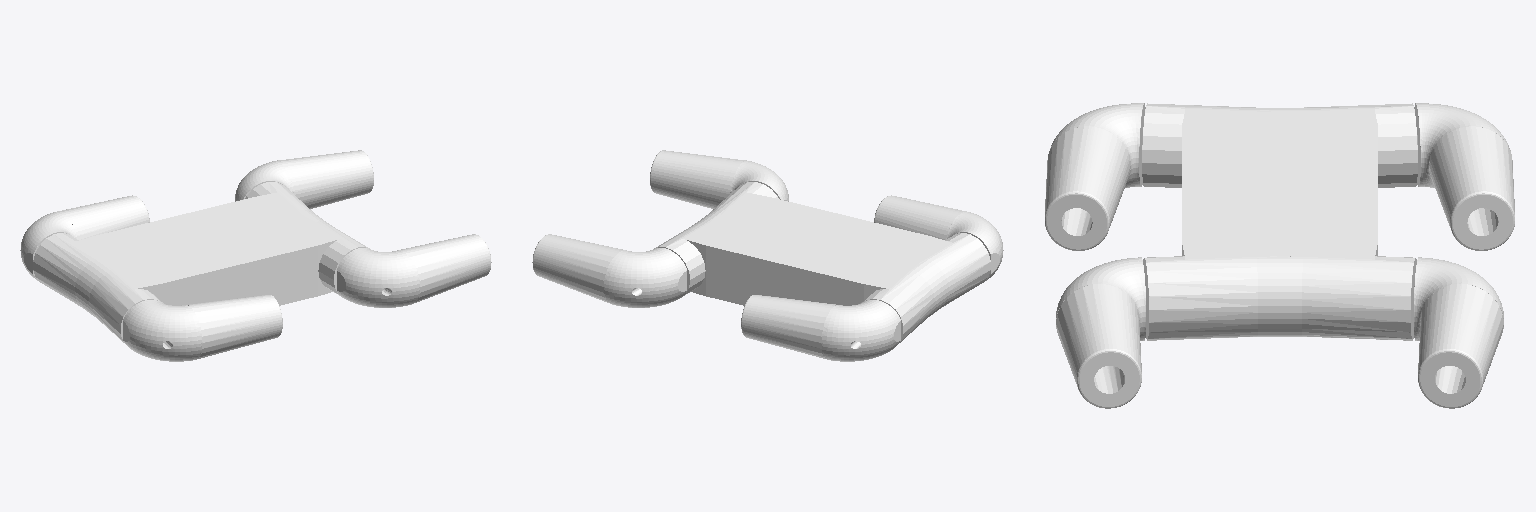
URDF robot description (5_degree):
<?xml version="1.0" encoding="utf-8"?>
<!-- This URDF was automatically created by SolidWorks to URDF Exporter! Originally created by [author] ([email redacted]) 
     Commit Version: 1.5.1-0-g916b5db  Build Version: 1.5.7152.31018
     For more information, please see http://wiki.ros.org/sw_urdf_exporter -->
<robot
  name="5_degree">
  <link
    name="base_link">
    <inertial>
      <origin
        xyz="0.0014429 -0.0018522 -6.9389E-18"
        rpy="0 0 0" />
      <mass
        value="2.803" />
      <inertia
        ixx="0.010406814"
        ixy="-0.000275404"
        ixz="-8.7849E-11"
        iyy="0.035905334"
        iyz="-2.481E-18"
        izz="0.04396308" />
    </inertial>
    <visual>
      <origin
        xyz="0 0 0"
        rpy="0 0 0" />
      <geometry>
        <mesh
          filename="package://5_degree/meshes/base_link.STL" />
      </geometry>
      <material
        name="">
        <color
          rgba="1 1 1 1" />
      </material>
    </visual>
    <collision>
      <origin
        xyz="0 0 0"
        rpy="0 0 0" />
      <geometry>
        <mesh
          filename="package://5_degree/meshes/base_link.STL" />
      </geometry>
    </collision>
  </link>
  <link
    name="left_fromt_link">
    <inertial>
      <origin
        xyz="-1.8382E-07 0.05465 -0.03115"
        rpy="0 0 0" />
      <mass
        value="0.081" />
      <inertia
        ixx="0.000198345"
        ixy="4.9685E-10"
        ixz="6.6329E-10"
        iyy="0.000044717"
        iyz="0.5927E-05"
        izz="0.000197966" />
    </inertial>
    <visual>
      <origin
        xyz="0 0 0"
        rpy="0 0 0" />
      <geometry>
        <mesh
          filename="package://5_degree/meshes/left_fromt_link.STL" />
      </geometry>
      <material
        name="">
        <color
          rgba="1 1 1 1" />
      </material>
    </visual>
    <collision>
      <origin
        xyz="0 0 0"
        rpy="0 0 0" />
      <geometry>
        <mesh
          filename="package://5_degree/meshes/left_fromt_link.STL" />
      </geometry>
    </collision>
  </link>
  <joint
    name="left_front_leg"
    type="continuous">
    <origin
      xyz="0.13898 0.10261 0"
      rpy="1.5708 1.5708 0" />
    <parent
      link="base_link" />
    <child
      link="left_fromt_link" />
    <axis
      xyz="0 0.087156 -0.99619" />
    <limit
      effort="5"
      velocity="487" />
  </joint>
  <link
    name="right_front_link">
    <inertial>
      <origin
        xyz="1.8382E-07 0.05465 0.03115"
        rpy="0 0 0" />
      <mass
        value="0.081" />
      <inertia
        ixx="0.000198345"
        ixy="-4.9685E-10"
        ixz="6.6329E-10"
        iyy="0.000044717"
        iyz="-0.5927E-05"
        izz="0.000197966" />
    </inertial>
    <visual>
      <origin
        xyz="0 0 0"
        rpy="0 0 0" />
      <geometry>
        <mesh
          filename="package://5_degree/meshes/right_front_link.STL" />
      </geometry>
      <material
        name="">
        <color
          rgba="1 1 1 1" />
      </material>
    </visual>
    <collision>
      <origin
        xyz="0 0 0"
        rpy="0 0 0" />
      <geometry>
        <mesh
          filename="package://5_degree/meshes/right_front_link.STL" />
      </geometry>
    </collision>
  </link>
  <joint
    name="right_front_leg"
    type="continuous">
    <origin
      xyz="0.13898 -0.10261 0"
      rpy="1.5708 1.5708 0" />
    <parent
      link="base_link" />
    <child
      link="right_front_link" />
    <axis
      xyz="0 0.087156 0.99619" />
    <limit
      effort="5"
      velocity="487" />
  </joint>
  <link
    name="right_back_link">
    <inertial>
      <origin
        xyz="5.8916E-09 0.051728 0.035794"
        rpy="0 0 0" />
      <mass
        value="0.081" />
      <inertia
        ixx="0.000198345"
        ixy="-4.2452E-10"
        ixz="4.9379E-10"
        iyy="0.00004691"
        iyz="-1.9143E-05"
        izz="0.000195773" />
    </inertial>
    <visual>
      <origin
        xyz="0 0 0"
        rpy="0 0 0" />
      <geometry>
        <mesh
          filename="package://5_degree/meshes/right_back_link.STL" />
      </geometry>
      <material
        name="">
        <color
          rgba="1 1 1 1" />
      </material>
    </visual>
    <collision>
      <origin
        xyz="0 0 0"
        rpy="0 0 0" />
      <geometry>
        <mesh
          filename="package://5_degree/meshes/right_back_link.STL" />
      </geometry>
    </collision>
  </link>
  <joint
    name="right_back_leg"
    type="continuous">
    <origin
      xyz="-0.13898 -0.10261 0"
      rpy="1.6581 1.5708 0" />
    <parent
      link="base_link" />
    <child
      link="right_back_link" />
    <axis
      xyz="0 0 1" />
    <limit
      effort="5"
      velocity="487" />
  </joint>
  <link
    name="left_back_link">
    <inertial>
      <origin
        xyz="-5.8916E-09 0.048412 -0.040166"
        rpy="0 0 0" />
      <mass
        value="0.081" />
      <inertia
        ixx="0.000198345"
        ixy="4.6594E-10"
        ixz="4.5491E-10"
        iyy="0.000051365"
        iyz="0.000031777"
        izz="0.000191318" />
    </inertial>
    <visual>
      <origin
        xyz="0 0 0"
        rpy="0 0 0" />
      <geometry>
        <mesh
          filename="package://5_degree/meshes/left_back_link.STL" />
      </geometry>
      <material
        name="">
        <color
          rgba="1 1 1 1" />
      </material>
    </visual>
    <collision>
      <origin
        xyz="0 0 0"
        rpy="0 0 0" />
      <geometry>
        <mesh
          filename="package://5_degree/meshes/left_back_link.STL" />
      </geometry>
    </collision>
  </link>
  <joint
    name="left_back_leg"
    type="continuous">
    <origin
      xyz="-0.13898 0.10261 0"
      rpy="1.5708 1.5708 0" />
    <parent
      link="base_link" />
    <child
      link="left_back_link" />
    <axis
      xyz="0 -0.087156 -0.99619" />
    <limit
      effort="5"
      velocity="487" />
  </joint>
</robot>

--- What the picture shows (computed from the rendered views, not written in the file) ---
Views: 3 orthographic renders of the robot side by side, from view 1: azimuth 30°, elevation 25°; view 2: azimuth 150°, elevation 25°; view 3: azimuth 270°, elevation 25°.
Model 5_degree with 5 links and 4 joints (4 continuous), rooted at base_link, posed all joints at 0.
Links seen in each view (by area): view 1: base_link, right_back_link, right_front_link, left_fromt_link, left_back_link; view 2: base_link, left_back_link, left_fromt_link, right_front_link, right_back_link; view 3: base_link, left_back_link, right_back_link, left_fromt_link, right_front_link.
Link boxes in pixels (x1,y1,x2,y2): base_link: (33,182,369,342); right_back_link: (123,295,282,361); right_front_link: (337,234,491,307); left_fromt_link: (235,150,373,208); left_back_link: (20,195,149,280); base_link: (654,182,990,342); left_back_link: (741,295,900,361); left_fromt_link: (532,234,686,307); right_front_link: (650,150,788,208); right_back_link: (874,195,1003,280); base_link: (1142,103,1417,340); left_back_link: (1414,103,1514,250); right_back_link: (1045,103,1145,250); left_fromt_link: (1414,257,1503,408); right_front_link: (1056,257,1145,408).
Size in the robot's own frame: 0.4574 by 0.36 by 0.064 metres.
Meshes: 5 distinct files referenced, 5 mesh visuals loaded (5 binary STL).